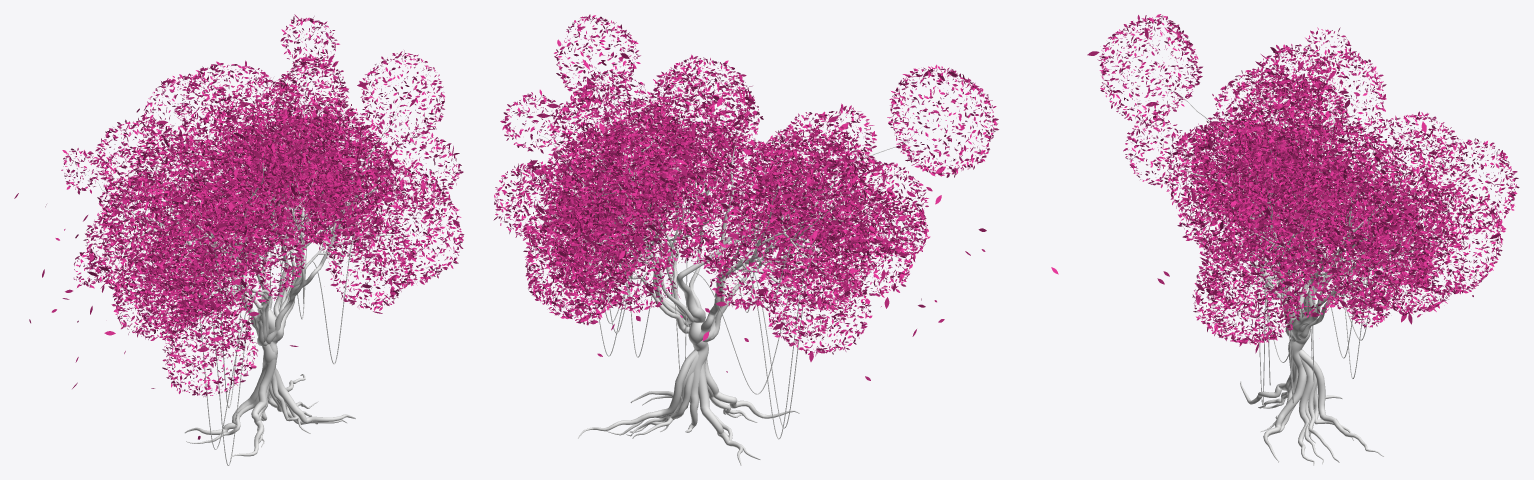
File: tree2.fbx
The picture shows the model from 3 angles, left to right: view 1: azimuth 30°, elevation 25°; view 2: azimuth 150°, elevation 25°; view 3: azimuth 270°, elevation 25°; orthographic projection. The views are drawn at different scales.
Visible parts, largest first — view 1: Tree; view 2: Tree; view 3: Tree.
Boxes of the visible parts, x1=… form: Tree: x1=14, y1=14, x2=464, y2=465; Tree: x1=493, y1=14, x2=1058, y2=465; Tree: x1=1087, y1=14, x2=1519, y2=465.
Bounding box in the file's own units: 584 × 482 × 508.
